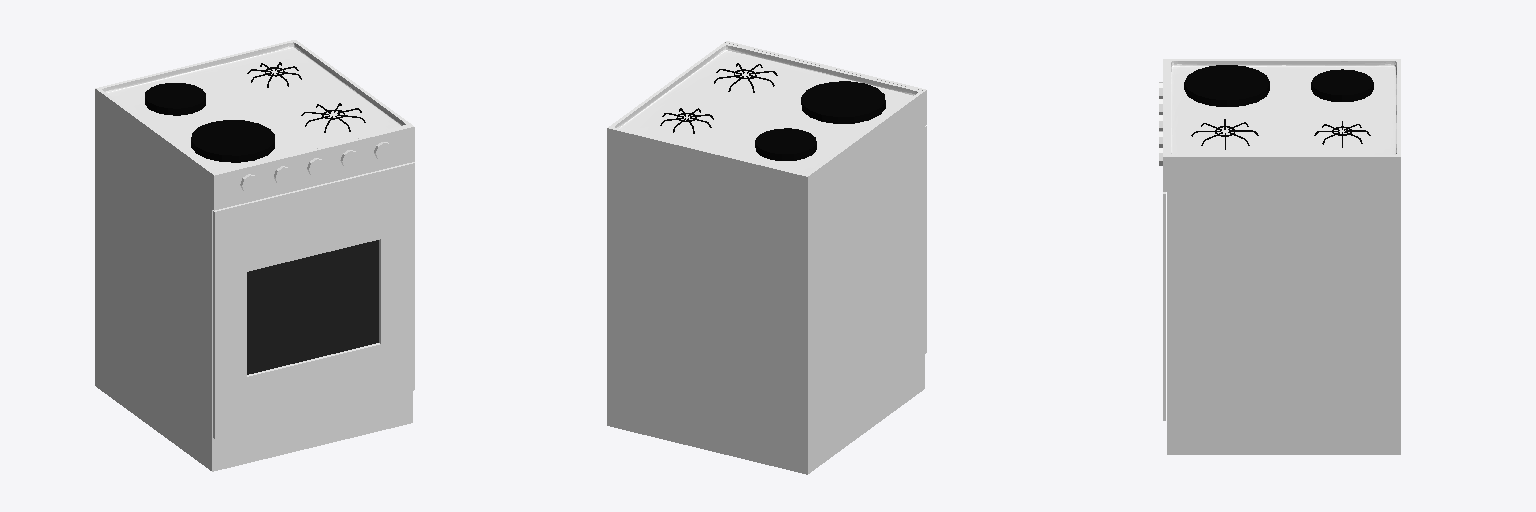
Rendered from cooker.obj.
The picture shows the model from 3 angles: view 1: azimuth 30°, elevation 25°; view 2: azimuth 150°, elevation 25°; view 3: azimuth 270°, elevation 25°; orthographic projection.
Visible parts, largest first — view 1: Corps_1, Porte_28, Vitre_29, Panneau_27, Feu_1_3, Feu_2; view 2: Corps_1, Feu_1_3, Feu_2; view 3: Corps_1, Feu_1_3, Feu_2, Porte_28, Panneau_27.
Part boxes in pixels (x1,y1,x2,y2): Corps_1: (95, 40, 412, 471); Porte_28: (213, 162, 414, 438); Vitre_29: (247, 240, 378, 374); Panneau_27: (212, 125, 414, 210); Feu_1_3: (191, 120, 274, 162); Feu_2: (145, 83, 205, 115); Corps_1: (607, 42, 924, 474); Feu_1_3: (801, 81, 885, 123); Feu_2: (755, 128, 816, 160); Corps_1: (1167, 59, 1400, 454); Feu_1_3: (1184, 65, 1269, 106); Feu_2: (1311, 69, 1373, 101); Porte_28: (1163, 192, 1165, 420); Panneau_27: (1163, 59, 1166, 191).
Bounding box in the file's own units: 59.69 × 85.09 × 62.23.